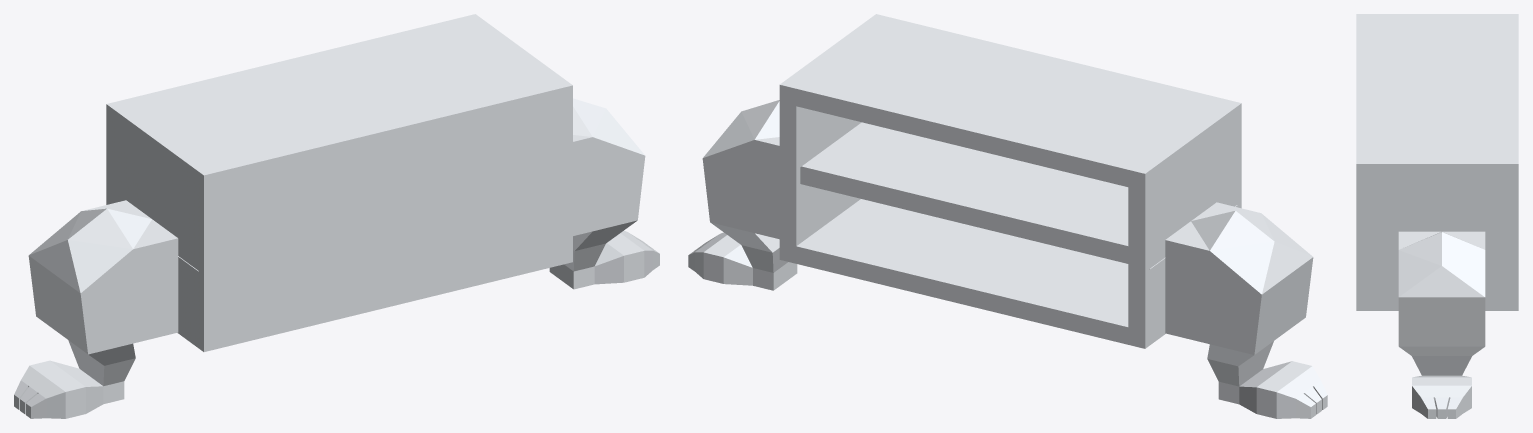
Rendered from fgr_fur_pawslador.fbx.
3 renders of one model, left to right at view 1: azimuth 30°, elevation 25°; view 2: azimuth 150°, elevation 25°; view 3: azimuth 270°, elevation 25°, orthographic. The views are drawn at different scales.
Visible parts, largest first — view 1: fgr_fur_pawslador; view 2: fgr_fur_pawslador; view 3: fgr_fur_pawslador.
Part boxes in pixels (x1=…): fgr_fur_pawslador: x1=14, y1=14, x2=659, y2=418; fgr_fur_pawslador: x1=688, y1=14, x2=1327, y2=418; fgr_fur_pawslador: x1=1356, y1=14, x2=1518, y2=418.
Bounding box in the file's own units: 2512 × 929 × 675.
1 material, 1 textured.
